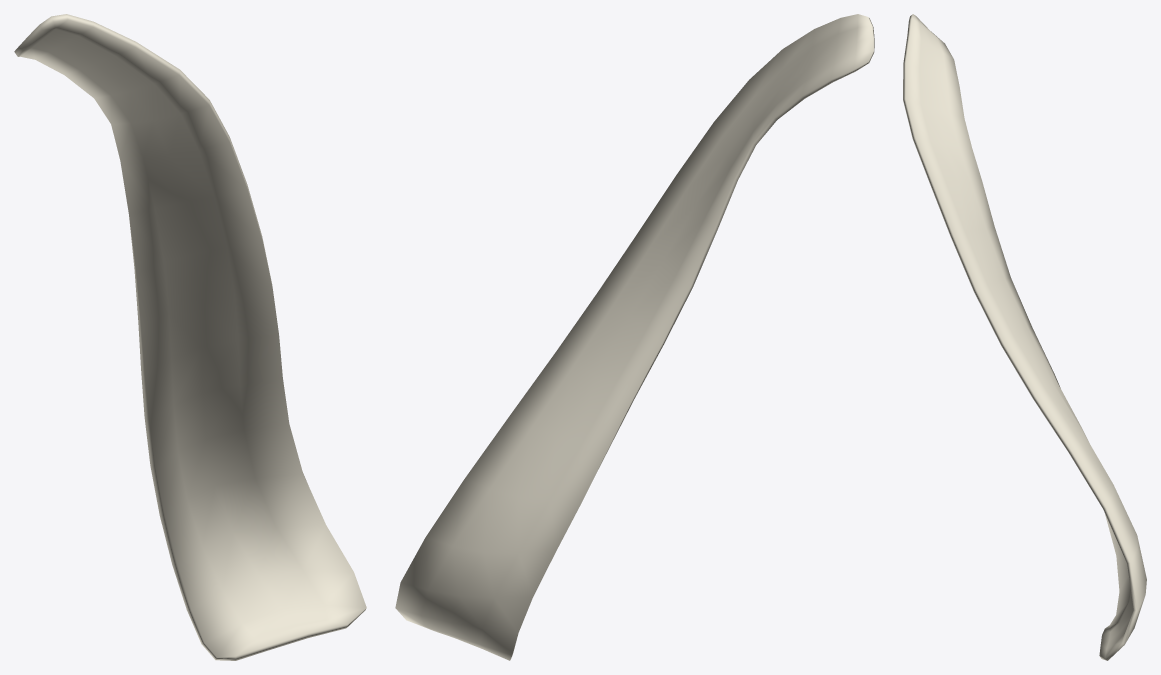
3 renders of one model, left to right at view 1: azimuth 30°, elevation 25°; view 2: azimuth 150°, elevation 25°; view 3: azimuth 270°, elevation 25°, orthographic. The views are drawn at different scales.
Visible parts, largest first — view 1: ZA_1b66c3ed065c7cc6; view 2: ZA_1b66c3ed065c7cc6; view 3: ZA_1b66c3ed065c7cc6.
Boxes of the visible parts, box(x1,y1,x2,y2) form: ZA_1b66c3ed065c7cc6: box(14, 14, 366, 660); ZA_1b66c3ed065c7cc6: box(395, 14, 874, 660); ZA_1b66c3ed065c7cc6: box(903, 14, 1146, 660).
Size of the model in its own units: 0.0436 by 0.0711 by 0.0304.
